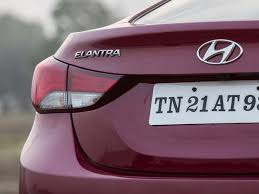T: (154, 95, 167, 117)
